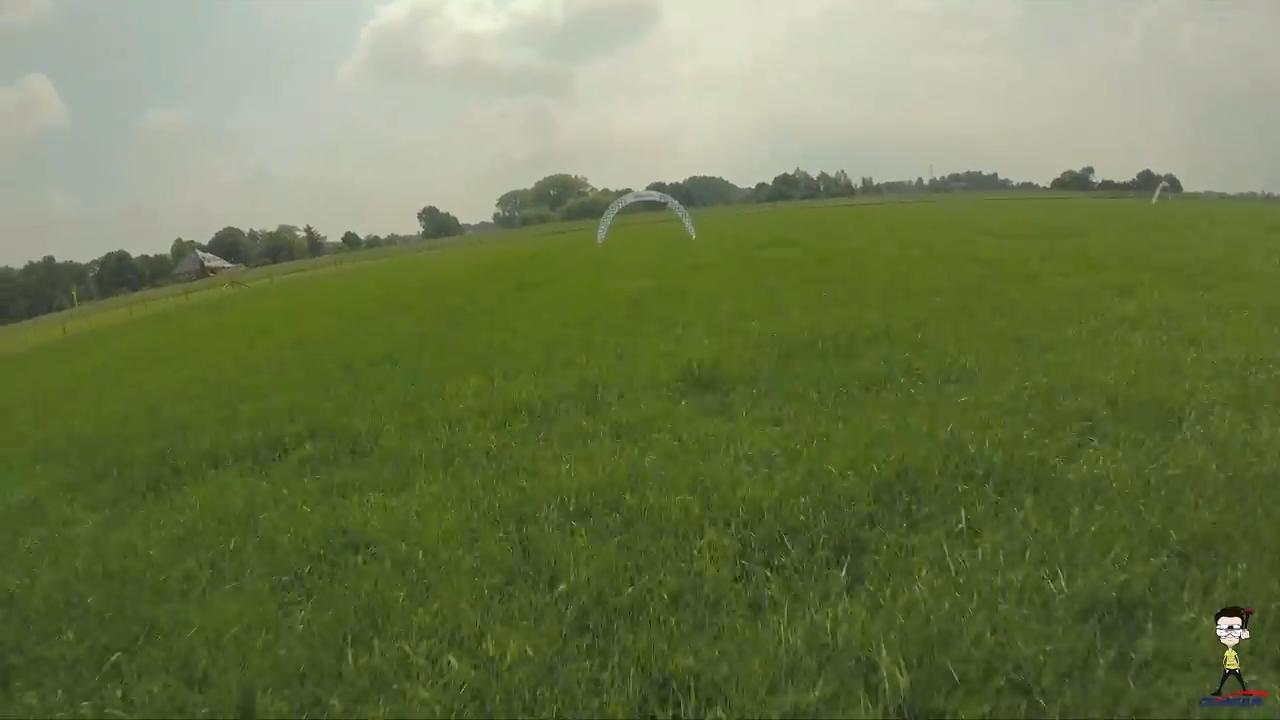gate: (595, 189, 698, 245)
